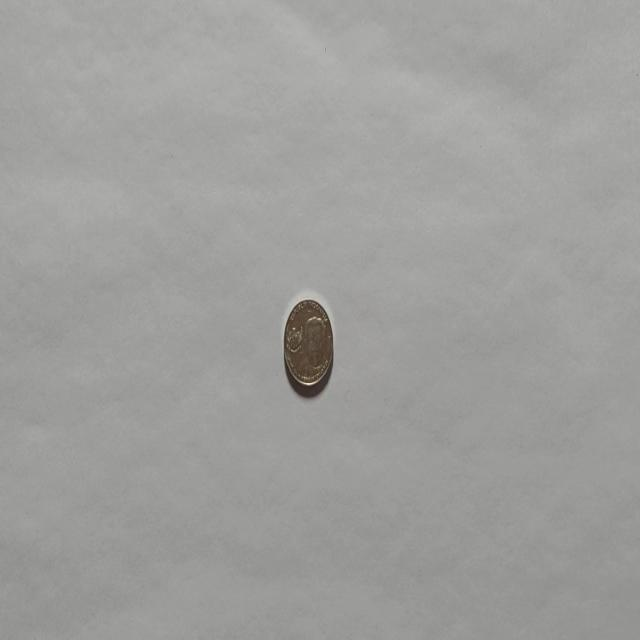seratus rupiah: (282, 296, 334, 389)
